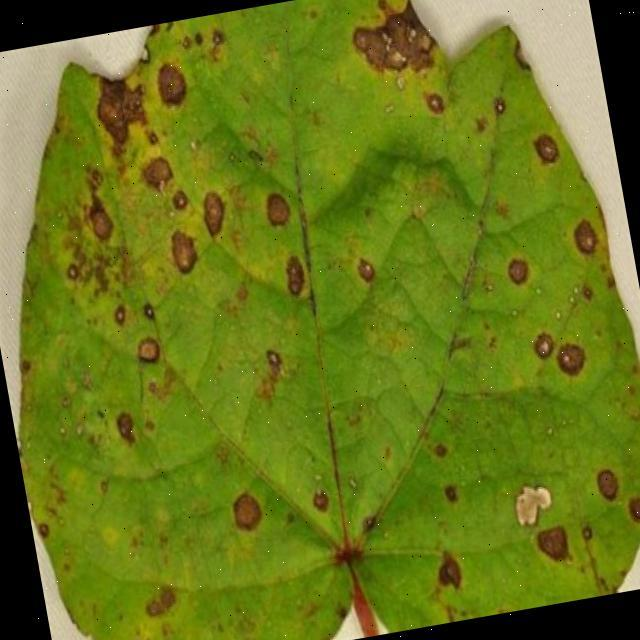Bacterial: (60, 116, 369, 561)
